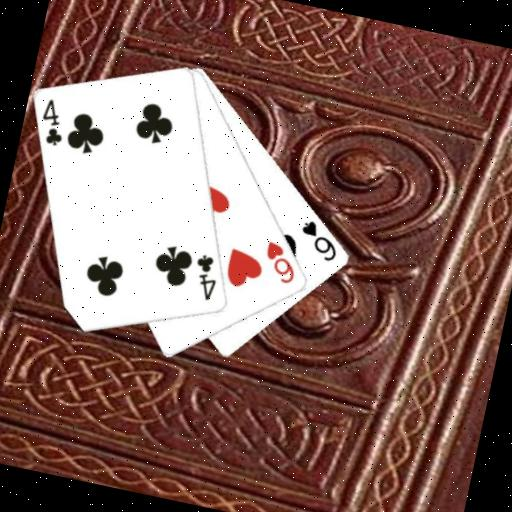4C: (186, 249, 224, 304), (34, 94, 72, 149)
6H: (257, 237, 303, 287)
6S: (293, 215, 345, 264)
